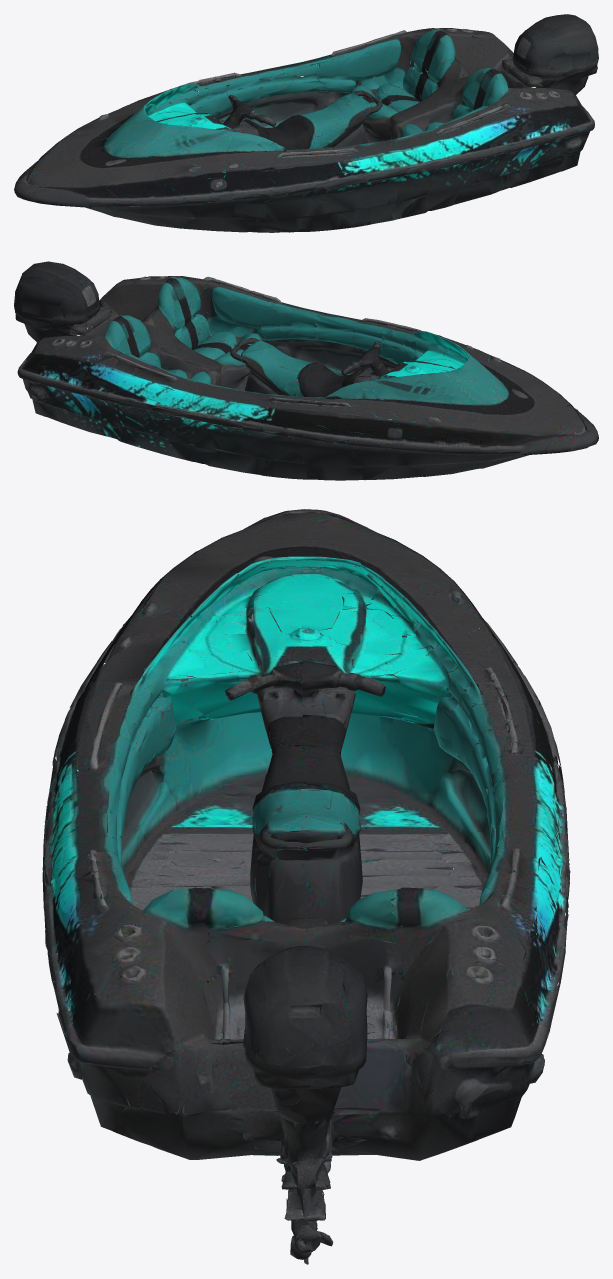
The model's file is boat.glb.
3 renders of one model, top to bottom at view 1: azimuth 30°, elevation 25°; view 2: azimuth 150°, elevation 25°; view 3: azimuth 270°, elevation 25°, orthographic. The views are drawn at different scales.
Parts seen in each view (by area): view 1: Mesh_0; view 2: Mesh_0; view 3: Mesh_0.
Boxes of the visible parts, bbox=[...] form: Mesh_0: bbox=[14, 14, 598, 232]; Mesh_0: bbox=[14, 261, 598, 480]; Mesh_0: bbox=[42, 509, 570, 1264].
Size of the model in its own units: 1.9 by 0.4846 by 0.7556.
Materials: 1 (1 with a texture image).
